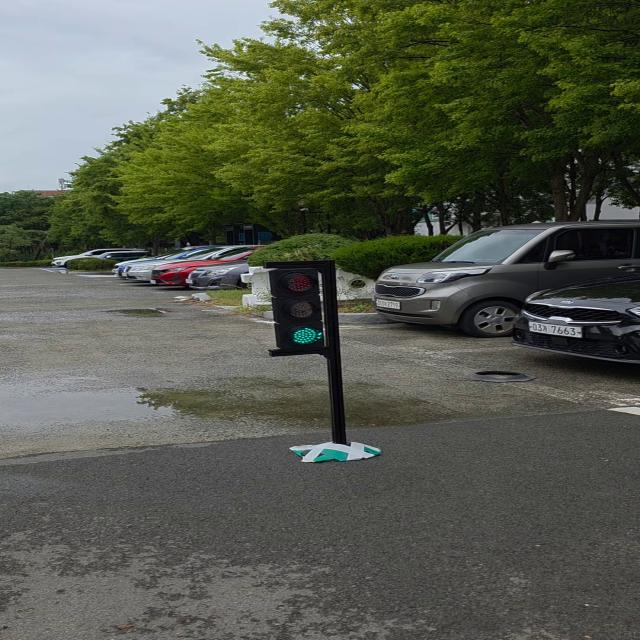green: (270, 262, 338, 352)
